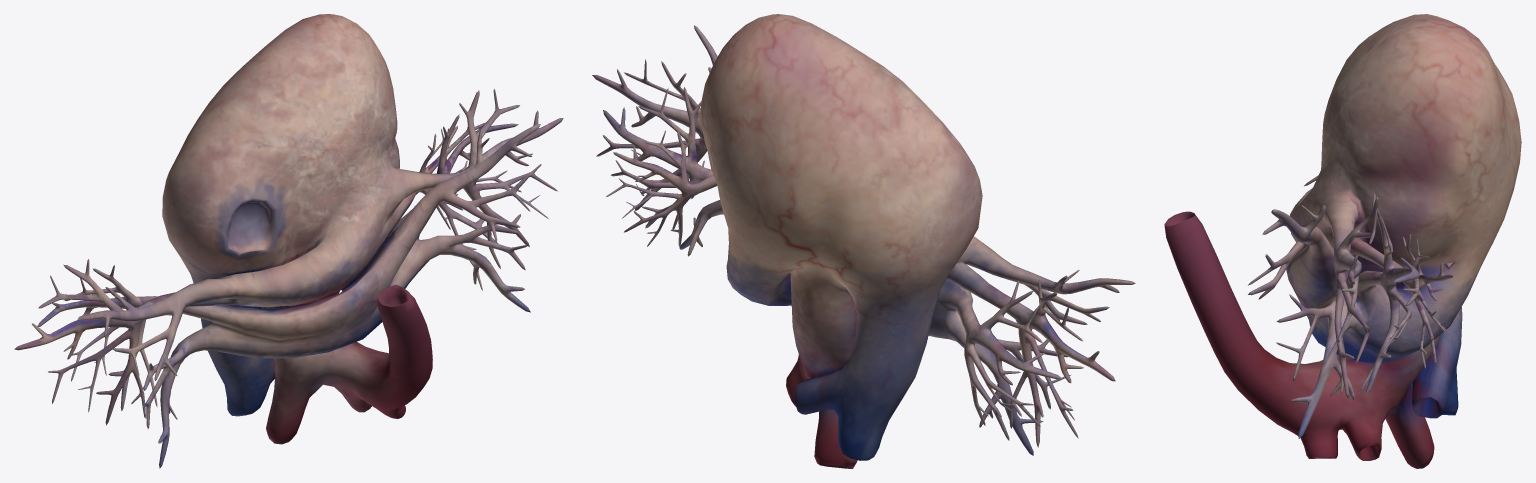
File: heartAnimation.gltf
3 views of the same model, side by side, from view 1: azimuth 30°, elevation 25°; view 2: azimuth 150°, elevation 25°; view 3: azimuth 270°, elevation 25° (orthographic). The views are drawn at different scales.
Visible parts, largest first — view 1: object1; view 2: object1; view 3: object1.
Boxes of the visible parts, x1,y1,x2,y2 form: object1: [14, 14, 563, 468]; object1: [592, 14, 1135, 468]; object1: [1164, 14, 1521, 468].
Bounding box in the file's own units: 0.0857 × 0.0646 × 0.0446.
9 materials, 9 textured.
